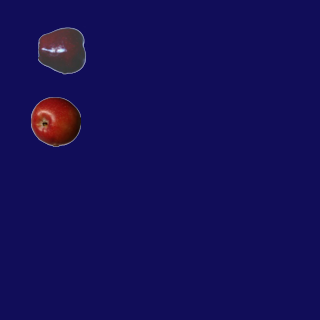Apple Braeburn: (30, 96, 80, 146)
Apple Red Delicious: (37, 25, 87, 75)
